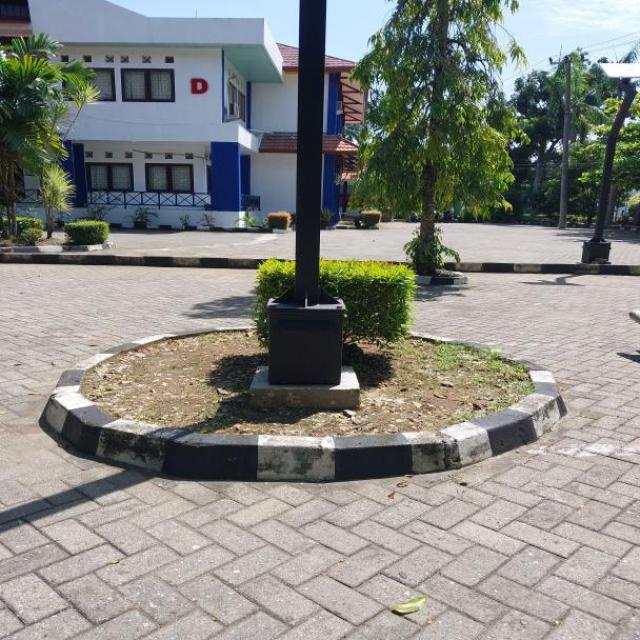electric pole ahead at: (264, 0, 364, 388)
